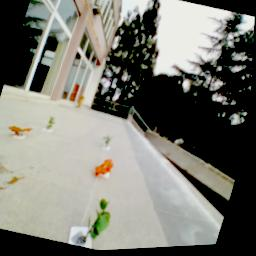herb: (85, 196, 120, 247), (46, 116, 58, 132), (103, 135, 114, 152)
wild: (93, 156, 118, 185), (7, 121, 37, 144)
